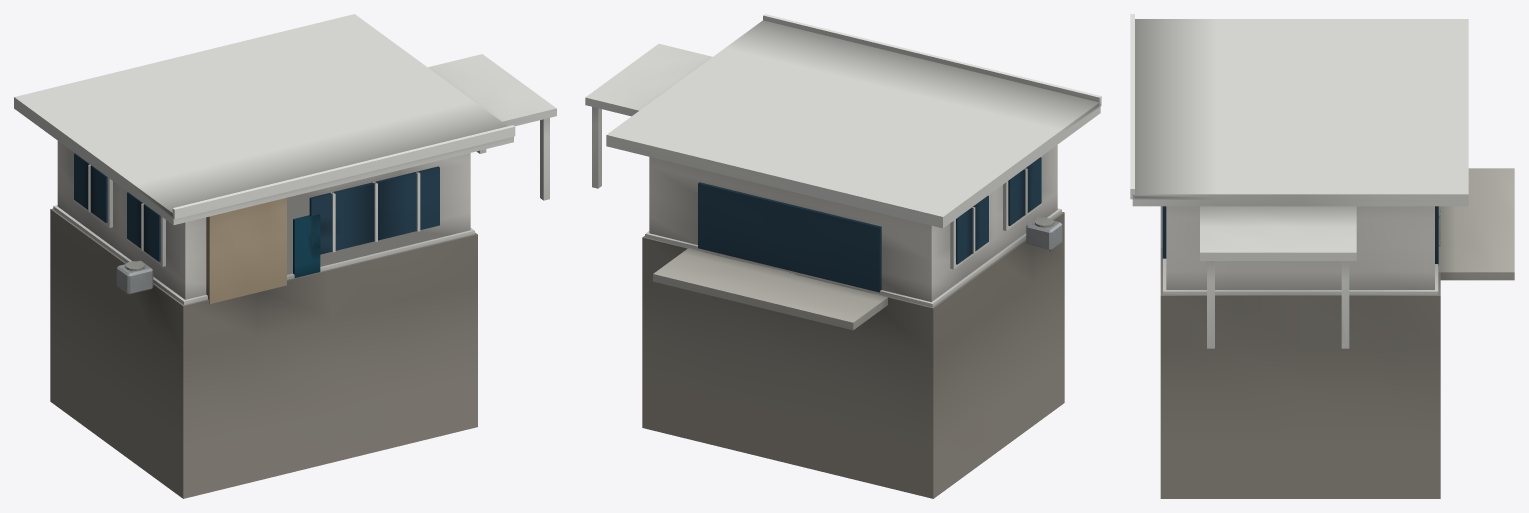
File: house_modern.glb
3 views of the same model, side by side, from view 1: azimuth 30°, elevation 25°; view 2: azimuth 150°, elevation 25°; view 3: azimuth 270°, elevation 25° (orthographic). The views are drawn at different scales.
Visible parts, largest first — view 1: house_modern; view 2: house_modern; view 3: house_modern.
Part boxes in pixels (x1,y1,x2,y2): house_modern: (14, 14, 556, 498); house_modern: (585, 14, 1101, 498); house_modern: (1130, 14, 1514, 498).
Bounding box in the file's own units: 2.28 × 1.59 × 1.72.
